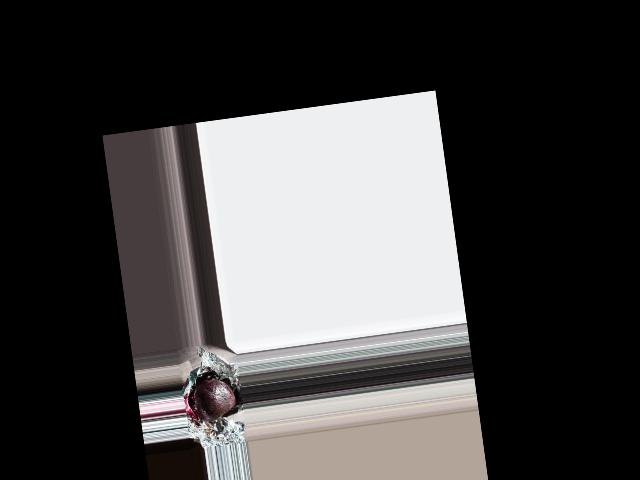beet: (193, 376, 237, 423)
